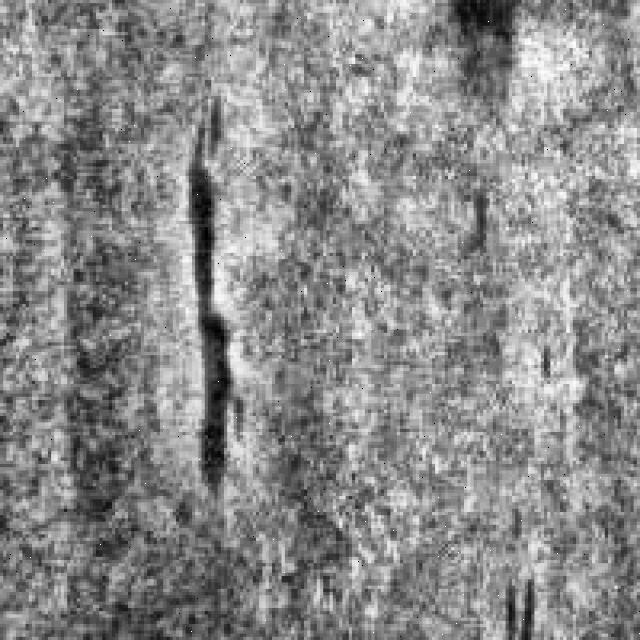Patches: (166, 93, 253, 528), (486, 563, 557, 634)
